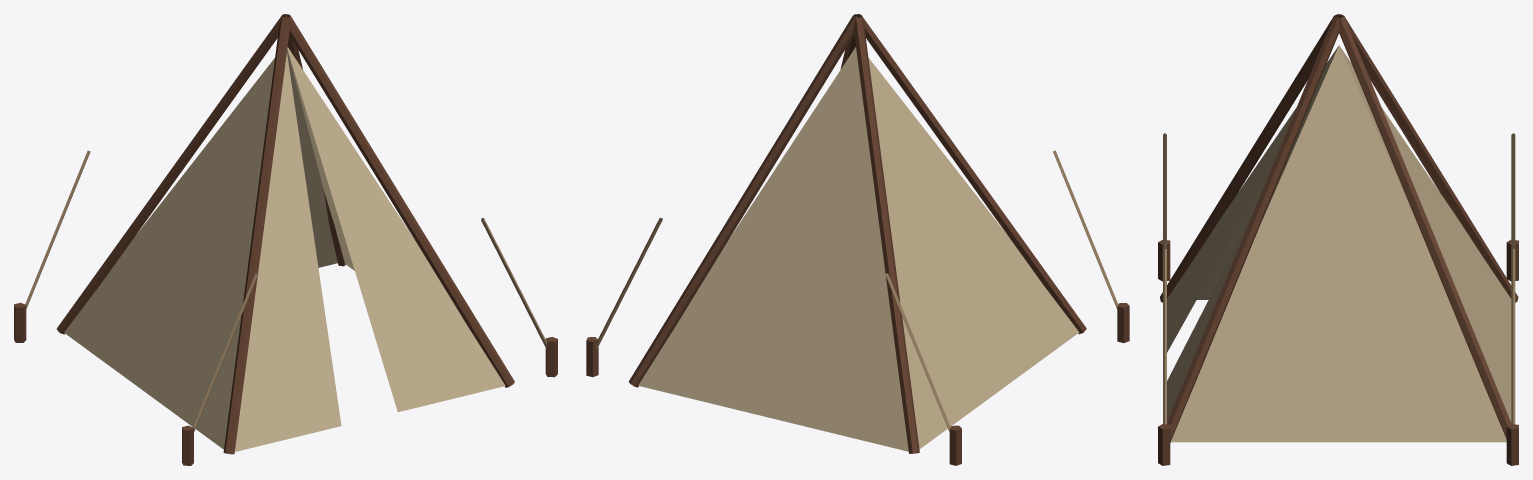
3 renders of one model, left to right at view 1: azimuth 30°, elevation 25°; view 2: azimuth 150°, elevation 25°; view 3: azimuth 270°, elevation 25°, orthographic. The views are drawn at different scales.
Visible parts, largest first — view 1: C03_尖顶小帐篷; view 2: C03_尖顶小帐篷; view 3: C03_尖顶小帐篷.
Part boxes in pixels (left/top/right/bottom): C03_尖顶小帐篷: left=14, top=14, right=557, bottom=465; C03_尖顶小帐篷: left=586, top=14, right=1129, bottom=465; C03_尖顶小帐篷: left=1158, top=14, right=1518, bottom=465.
Size of the model in its own units: 2 by 1.75 by 1.6.
